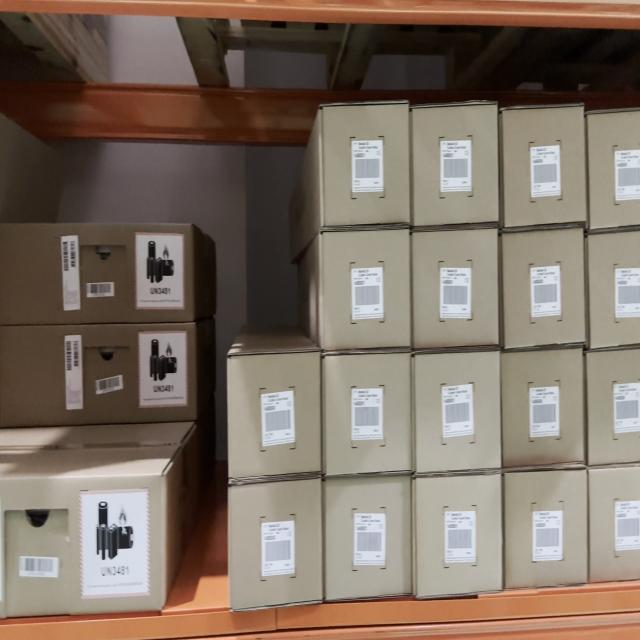box: (230, 351, 319, 479), (323, 355, 411, 474), (323, 102, 407, 226), (414, 352, 500, 473), (324, 481, 412, 596), (231, 487, 321, 599), (321, 235, 410, 347), (413, 107, 496, 226), (413, 478, 501, 590), (412, 233, 499, 345), (506, 471, 586, 587), (504, 107, 583, 223), (503, 351, 582, 466), (503, 231, 584, 343)
